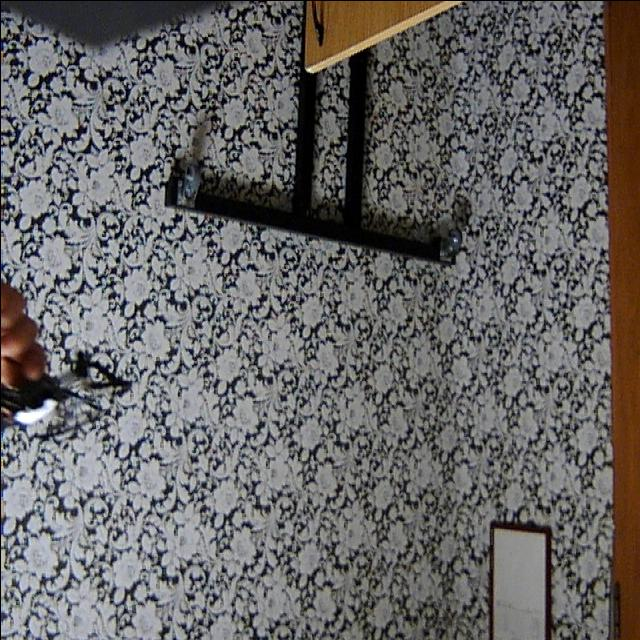drone: (0, 334, 131, 462)
